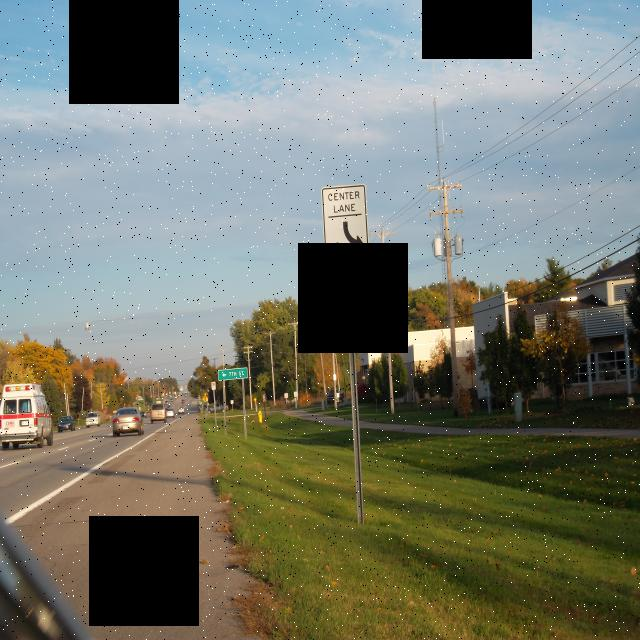regulatory: (318, 178, 374, 288), (211, 381, 216, 391), (284, 392, 288, 398), (294, 391, 298, 397)
warning: (202, 394, 208, 403), (254, 397, 256, 402)
